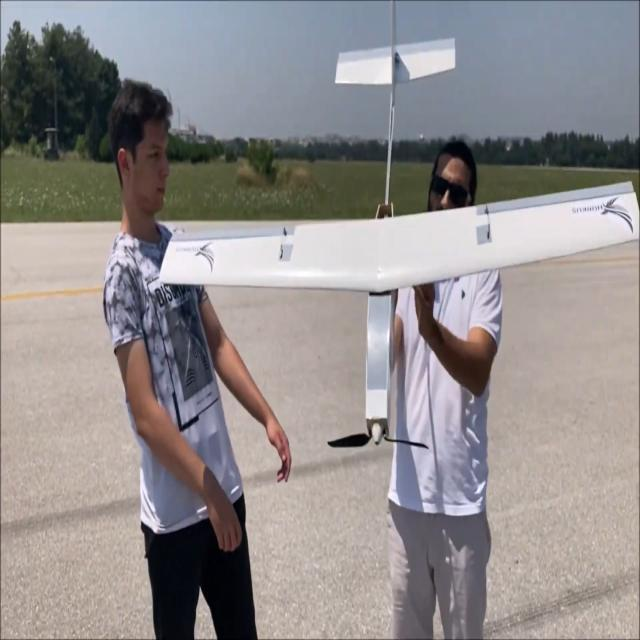UAV: (159, 27, 624, 444)
